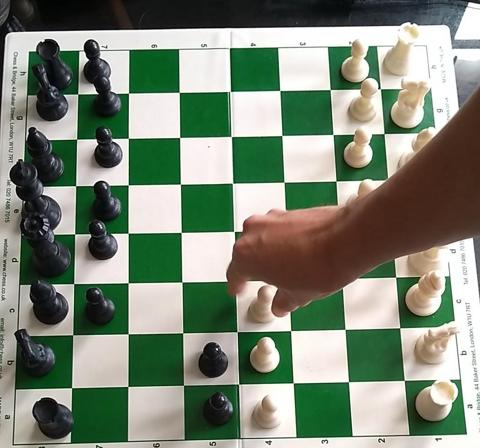xcorner: (60, 378, 78, 396), (116, 377, 134, 395), (172, 376, 190, 394), (284, 373, 302, 391), (395, 371, 413, 389), (336, 319, 354, 337), (391, 318, 409, 336), (63, 274, 81, 292), (117, 273, 135, 291), (279, 269, 297, 287), (333, 268, 351, 286), (387, 267, 405, 285), (118, 223, 136, 241), (171, 222, 189, 240), (224, 221, 242, 239), (277, 220, 295, 238), (330, 219, 348, 237), (383, 218, 401, 236), (223, 173, 241, 191), (275, 172, 293, 190), (327, 171, 345, 189), (379, 170, 397, 188), (119, 129, 137, 147), (170, 128, 188, 146), (273, 126, 291, 144), (324, 125, 342, 143), (375, 124, 393, 142), (228, 375, 246, 392), (340, 372, 357, 390), (62, 325, 79, 343), (117, 324, 134, 342), (172, 323, 189, 341), (171, 272, 189, 289), (225, 271, 243, 288), (66, 177, 84, 194), (68, 130, 85, 148), (222, 127, 239, 145), (69, 86, 87, 103), (170, 84, 188, 101), (271, 82, 289, 99), (321, 81, 339, 98), (227, 322, 244, 339), (282, 321, 299, 338), (65, 225, 82, 242), (119, 176, 136, 193), (171, 175, 188, 192), (120, 85, 137, 102), (221, 83, 238, 100), (372, 80, 389, 97)
